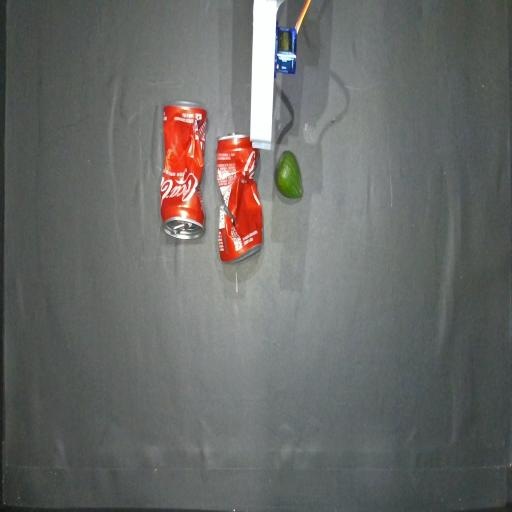higo: (276, 151, 303, 199)
lata_defectuoso: (160, 101, 207, 239), (216, 134, 262, 262)
